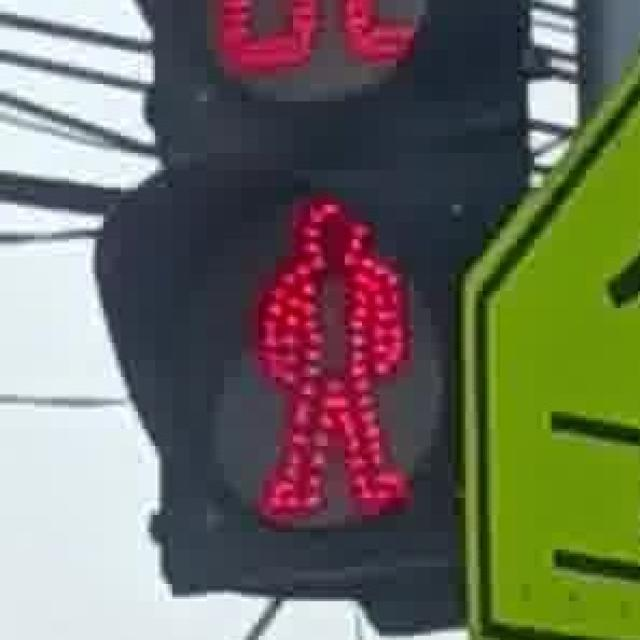red_light: (239, 183, 416, 530)
